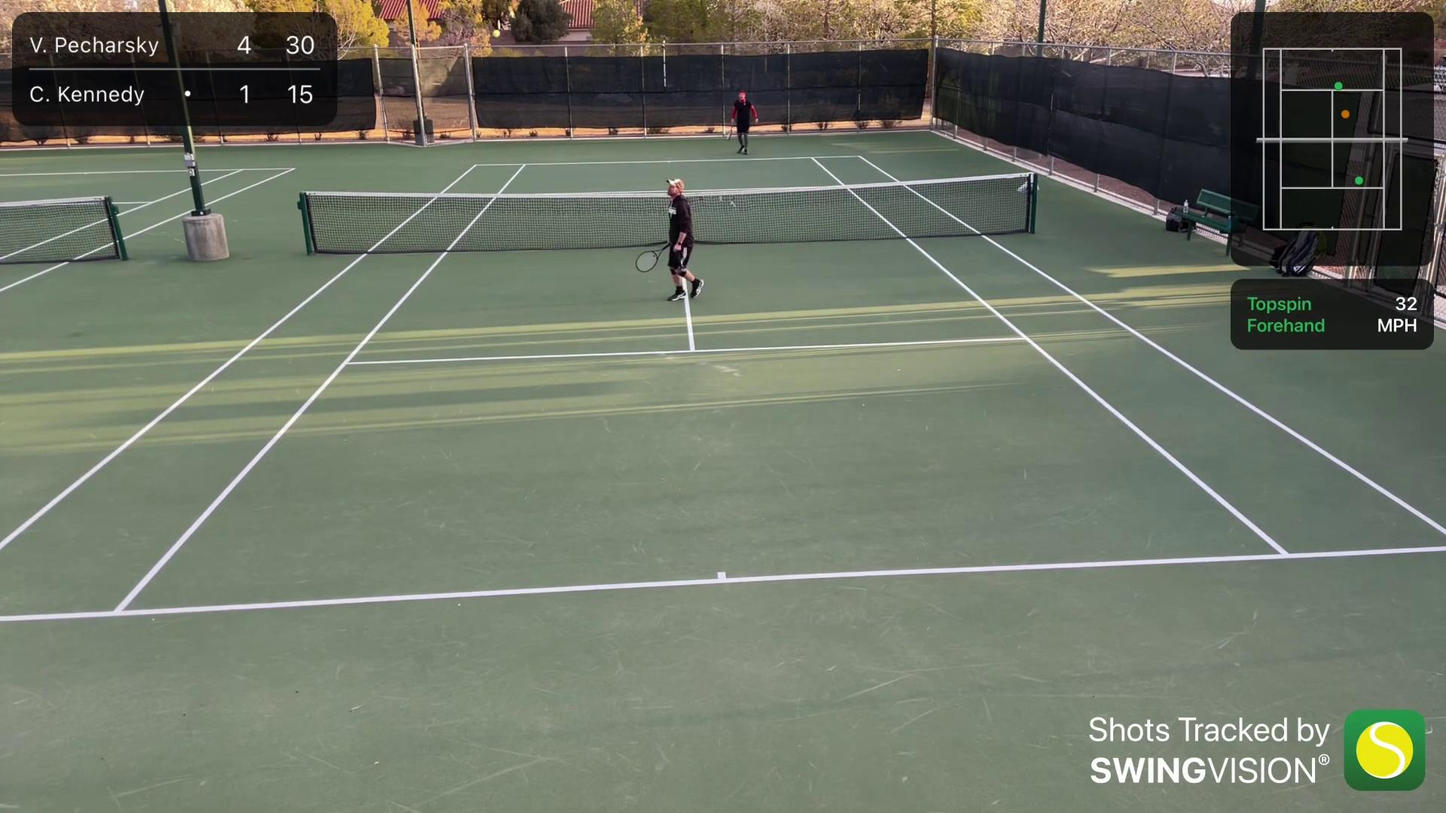ball: (491, 27, 501, 40)
